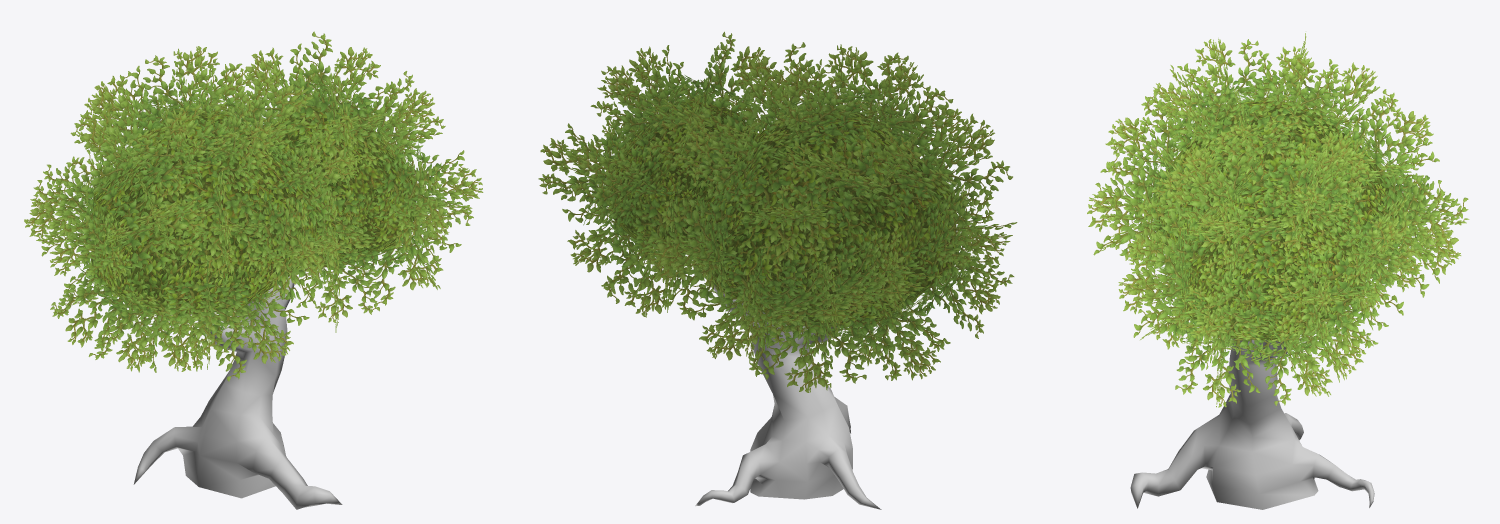
File: main treeb.FBX
3 renders of one model, left to right at view 1: azimuth 30°, elevation 25°; view 2: azimuth 150°, elevation 25°; view 3: azimuth 270°, elevation 25°, orthographic. The views are drawn at different scales.
Parts seen in each view (by area): view 1: forest main treeB; view 2: forest main treeB; view 3: forest main treeB.
Boxes of the visible parts, <box> form: forest main treeB: <box>24,31,483,509</box>; forest main treeB: <box>538,31,1017,509</box>; forest main treeB: <box>1087,33,1469,509</box>.
Bounding box in the file's own units: 14.76 × 13.85 × 11.91.
